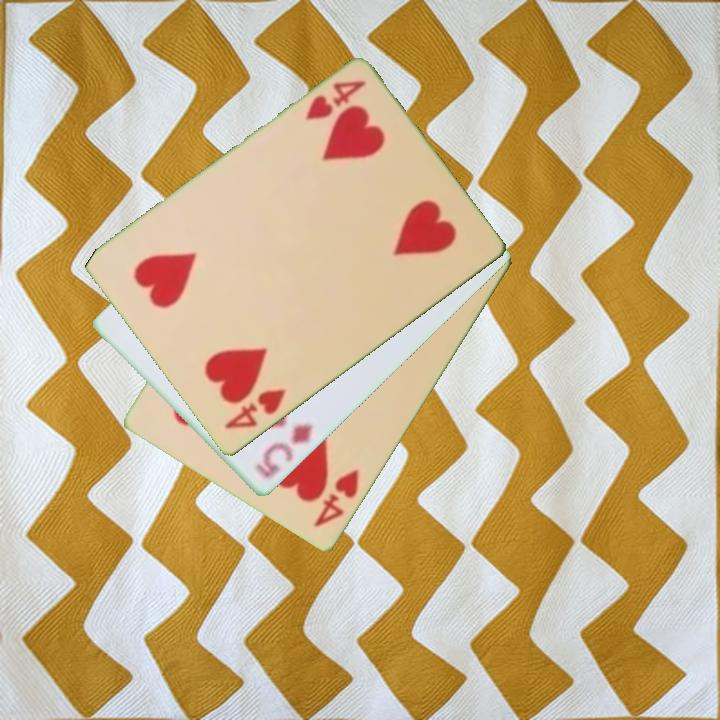4h: (310, 465, 363, 531), (220, 386, 289, 433), (301, 77, 369, 124)
5d: (252, 421, 316, 482)
